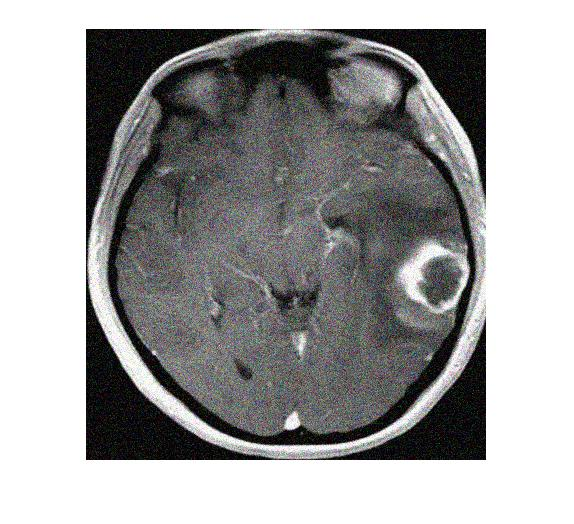Brain_Cancer: (395, 237, 476, 316)
